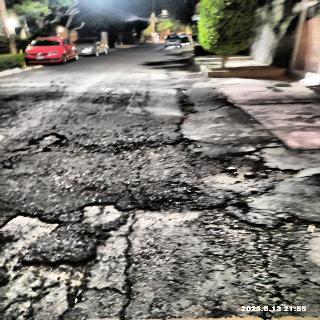alligator-crack: (0, 246, 157, 320)
pothole: (0, 120, 69, 160), (2, 206, 61, 244), (66, 196, 127, 228), (220, 147, 264, 173), (161, 139, 215, 159), (266, 163, 308, 188), (174, 90, 211, 112)
